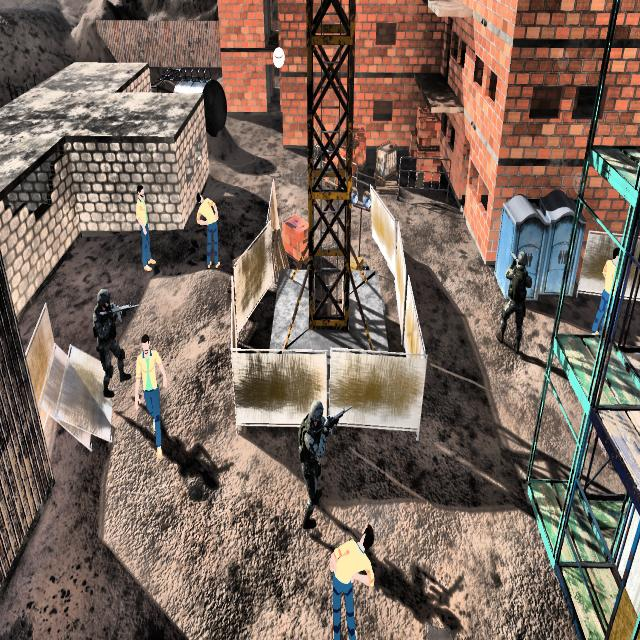bad: (290, 380, 336, 536), (87, 277, 134, 400), (495, 233, 534, 360)
good: (323, 506, 380, 640), (128, 328, 170, 463), (190, 178, 226, 272), (128, 176, 160, 274), (597, 245, 623, 336)
